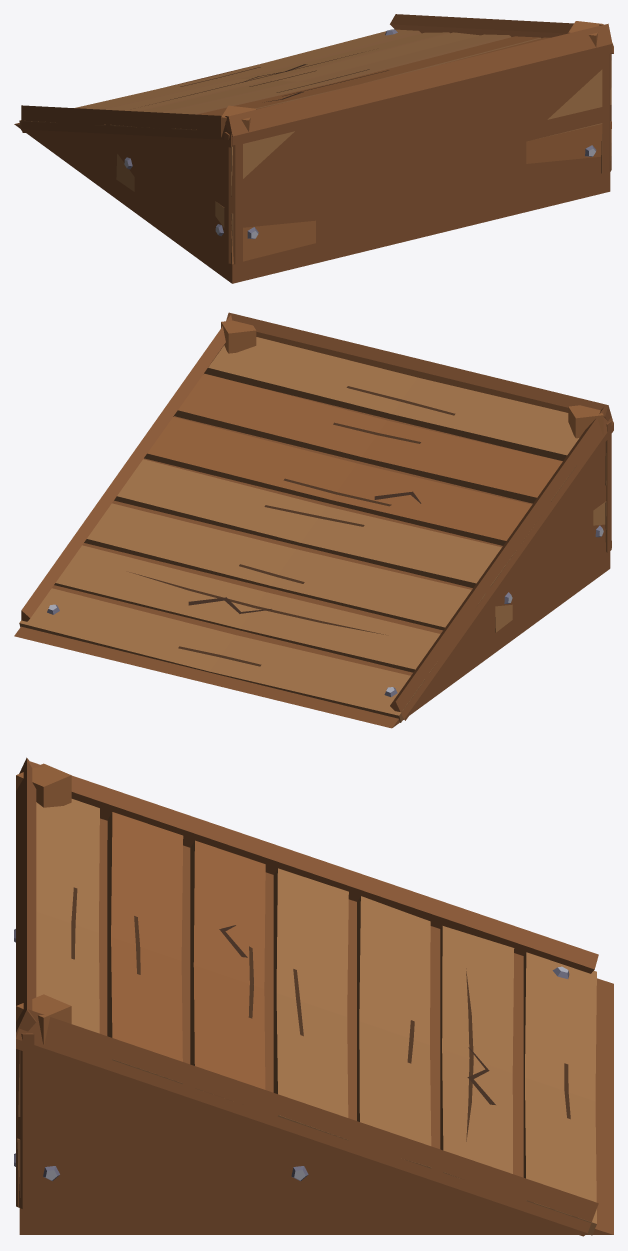
The model's file is cone_plank_slope_crack1.glb.
The picture shows the model from 3 angles, top to bottom: view 1: azimuth 30°, elevation 25°; view 2: azimuth 150°, elevation 25°; view 3: azimuth 270°, elevation 25°; orthographic projection. The views are drawn at different scales.
Parts seen in each view (by area): view 1: Body; view 2: Body; view 3: Body.
Boxes of the visible parts, <box> form: Body: <box>14,14,613,283</box>; Body: <box>14,312,613,728</box>; Body: <box>14,757,613,1236</box>.
Size of the model in its own units: 4 by 1.68 by 3.98.
